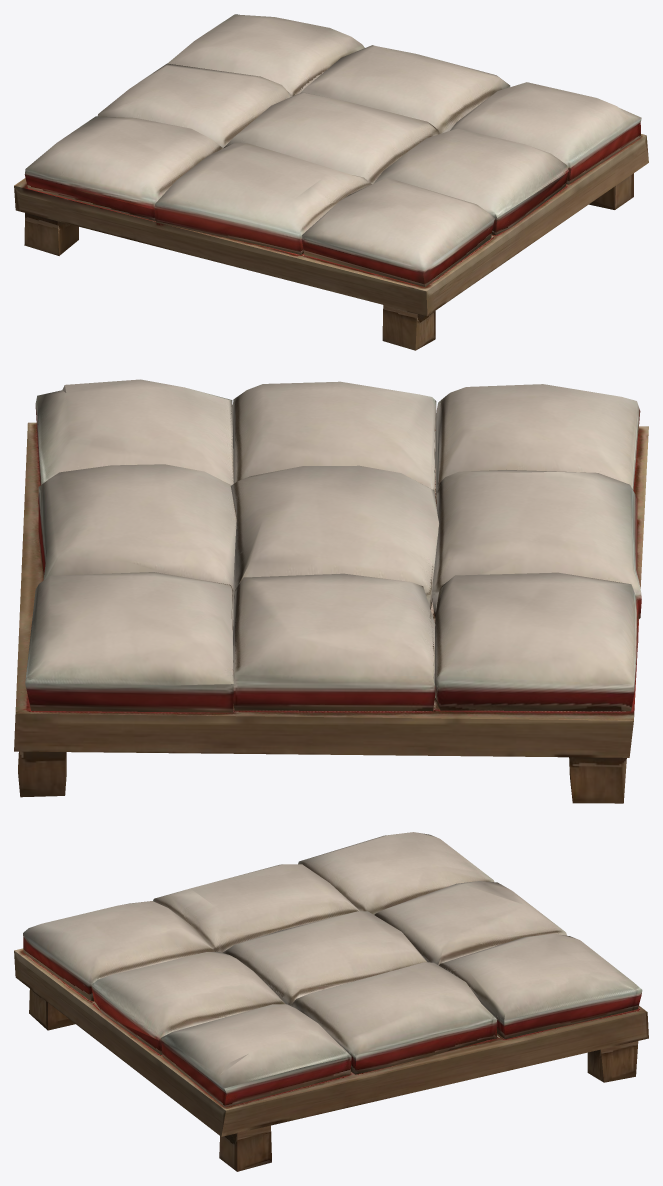
Rendered from act1_kit_v1_quilted_platform.glb.
3 renders of one model, top to bottom at view 1: azimuth 30°, elevation 25°; view 2: azimuth 150°, elevation 25°; view 3: azimuth 270°, elevation 25°, orthographic. The views are drawn at different scales.
Visible parts, largest first — view 1: A14_5_quilted_platform; view 2: A14_5_quilted_platform; view 3: A14_5_quilted_platform.
Part boxes in pixels (x1,y1,x2,y2): A14_5_quilted_platform: [14, 14, 648, 350]; A14_5_quilted_platform: [14, 379, 648, 803]; A14_5_quilted_platform: [14, 832, 648, 1171].
Bounding box in the file's own units: 0.9624 × 0.1976 × 0.9953.
1 material, 1 textured.
